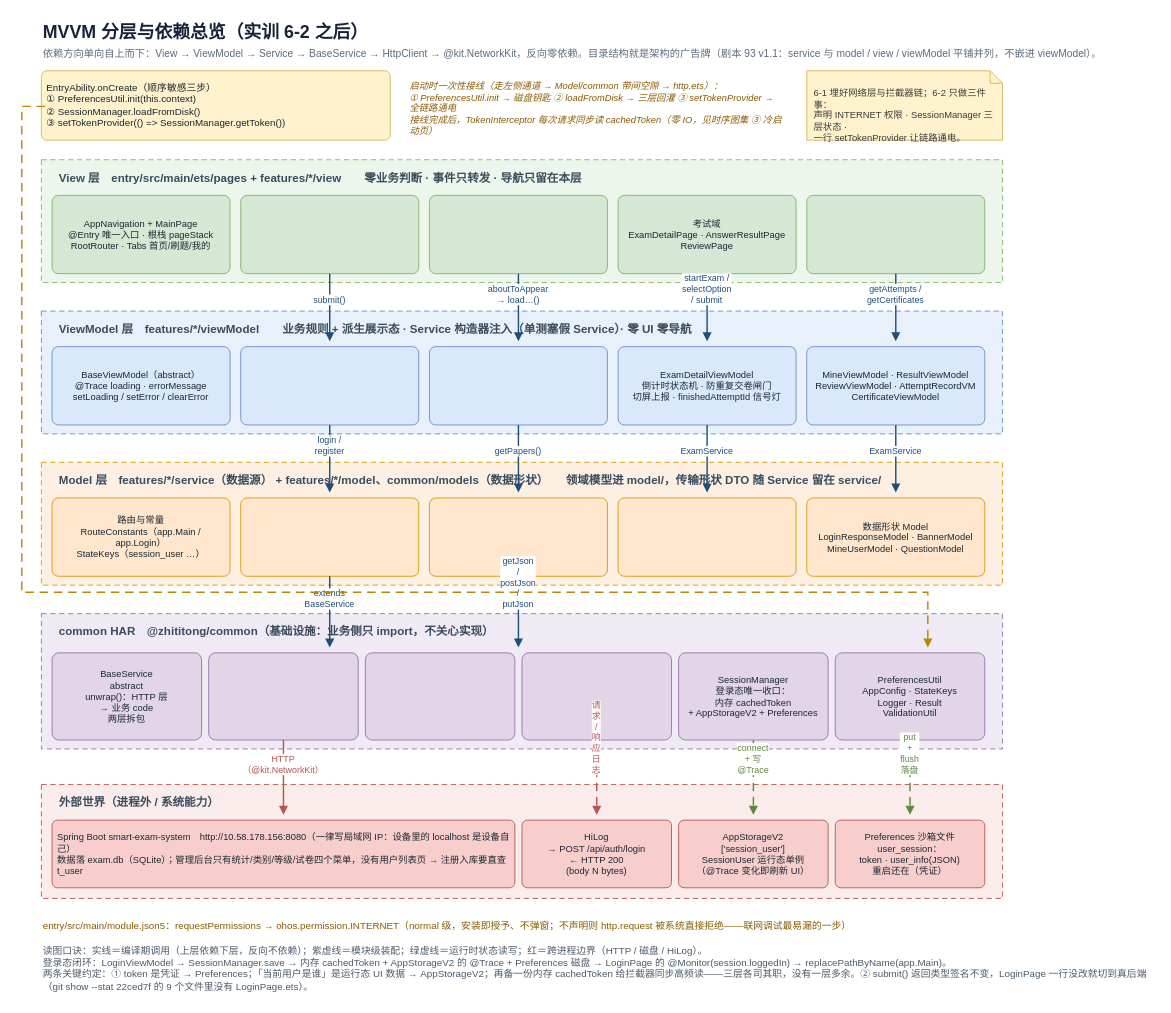
Image size: 1171x1013. Some labels were removed from this diagram. The shapes that lost their labels are listed below. From the top down, each one's centre as x and y in pixels, then its label:
At point 329,234: "LoginPage @Local viewModel @Monitor(session.loggedIn) tryEnterMain()：三入口 + 栈顶闸门".
At point 518,234: "首页 / 刷题域 HomePage · ExamSubjectPage ExamListPage（自持域子栈）".
At point 895,234: "我的域 MinePage · AttemptRecordPage CertificatePage".
At point 329,385: "LoginViewModel 校验三连 + submit() 注册→自动登录串联".
At point 518,385: "HomeViewModel · SubjectViewModel ExamListViewModel （6-3 换真实数据源）".
At point 329,536: "LoginService POST /api/auth/login POST /api/auth/register （瘦成纯声明：路径 + 类型）".
At point 518,536: "PaperService GET /api/exam/papers （被三个 ViewModel 共享）".
At point 706,536: "ExamService 开考 / 存答 / 切屏上报 交卷 / 回顾 / 记录 / 证书".
At point 283,696: "HttpClient resolveUrl 拼 BASE_URL 拦截器链 · 超时 createHttp / destroy".
At point 439,696: "http.ets 全局唯一 httpClient setTokenProvider() （6-1 埋的注入点）".
At point 596,696: "interceptors.ets TokenInterceptor LoggingInterceptor （按注册顺序过链）".
